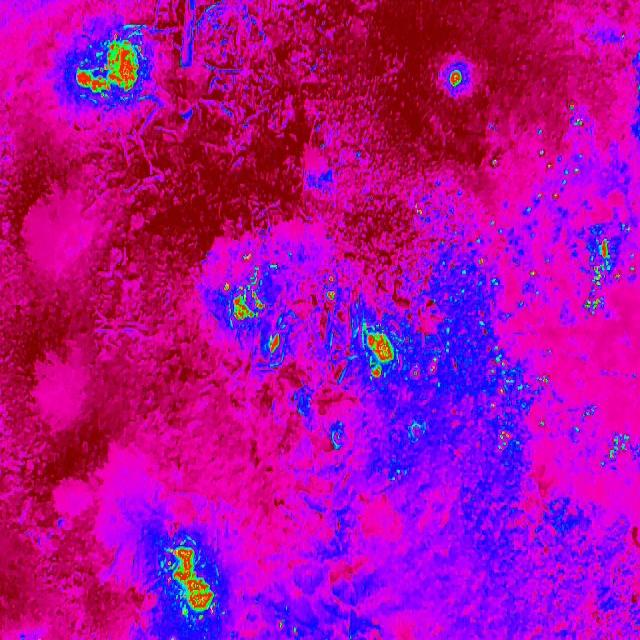fire: (421, 243, 568, 458), (529, 94, 603, 208), (159, 541, 217, 627), (71, 34, 146, 100), (215, 250, 268, 326), (582, 230, 614, 320), (358, 326, 402, 382), (596, 431, 620, 467), (444, 60, 466, 92), (262, 329, 284, 357), (324, 275, 337, 303)
